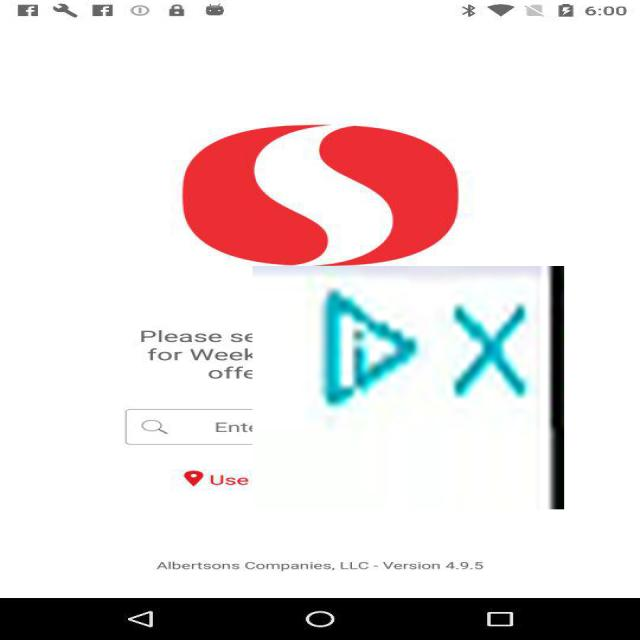sneaking: (253, 266, 564, 509)
